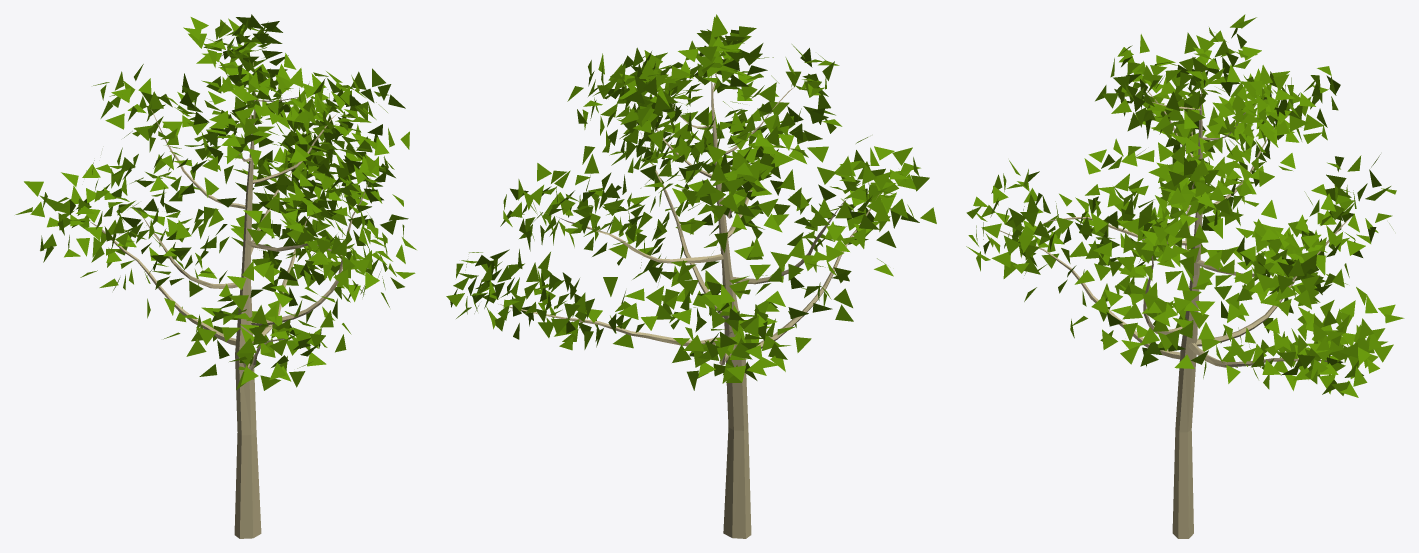
The model's file is tree_tree.glb.
3 views of the same model, side by side, from view 1: azimuth 30°, elevation 25°; view 2: azimuth 150°, elevation 25°; view 3: azimuth 270°, elevation 25° (orthographic). The views are drawn at different scales.
Parts seen in each view (by area): view 1: foilage, branchtwigs; view 2: foilage, branchtwigs; view 3: foilage, branchtwigs.
Part boxes in pixels (bbox=[...]): foilage: bbox=[15, 14, 416, 390]; branchtwigs: bbox=[89, 62, 372, 538]; foilage: bbox=[446, 14, 936, 390]; branchtwigs: bbox=[498, 72, 880, 538]; foilage: bbox=[966, 14, 1404, 397]; branchtwigs: bbox=[999, 89, 1351, 538].
Size of the model in its own units: 5.94 by 8 by 6.22.
